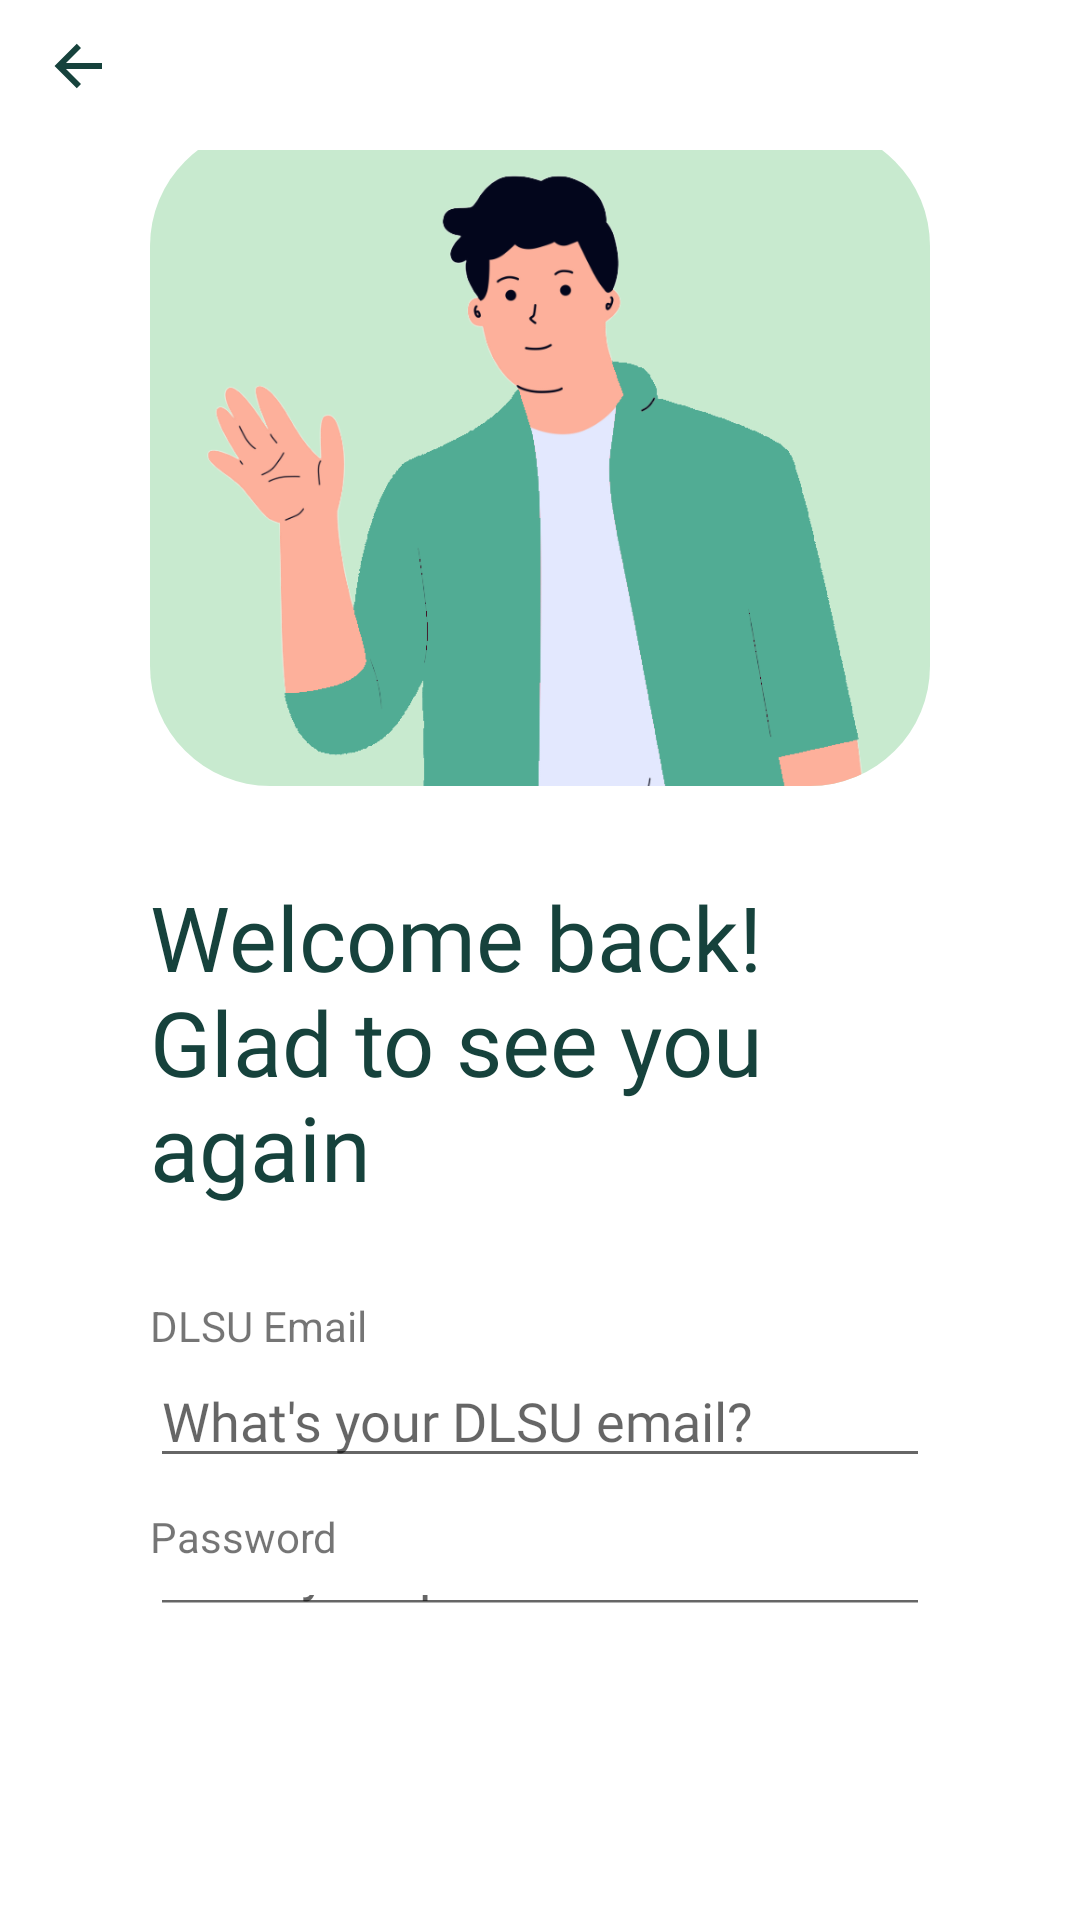

Screen size 1080px x 1920px. Icon name, then its center in pixels as [x,y]:
arrow left: [78,66]
